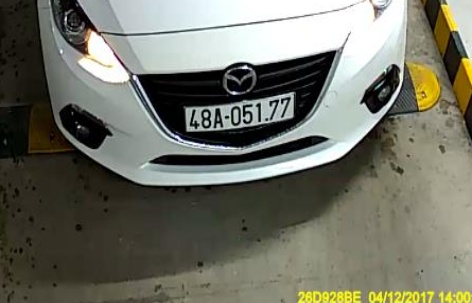plate: (179, 91, 298, 139)
